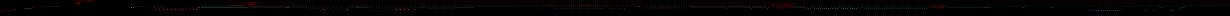Blue cone: (31, 7, 37, 8), (11, 9, 16, 10)
Orange: (768, 3, 794, 9), (243, 2, 261, 6)
Yellow cone: (929, 5, 947, 9)
